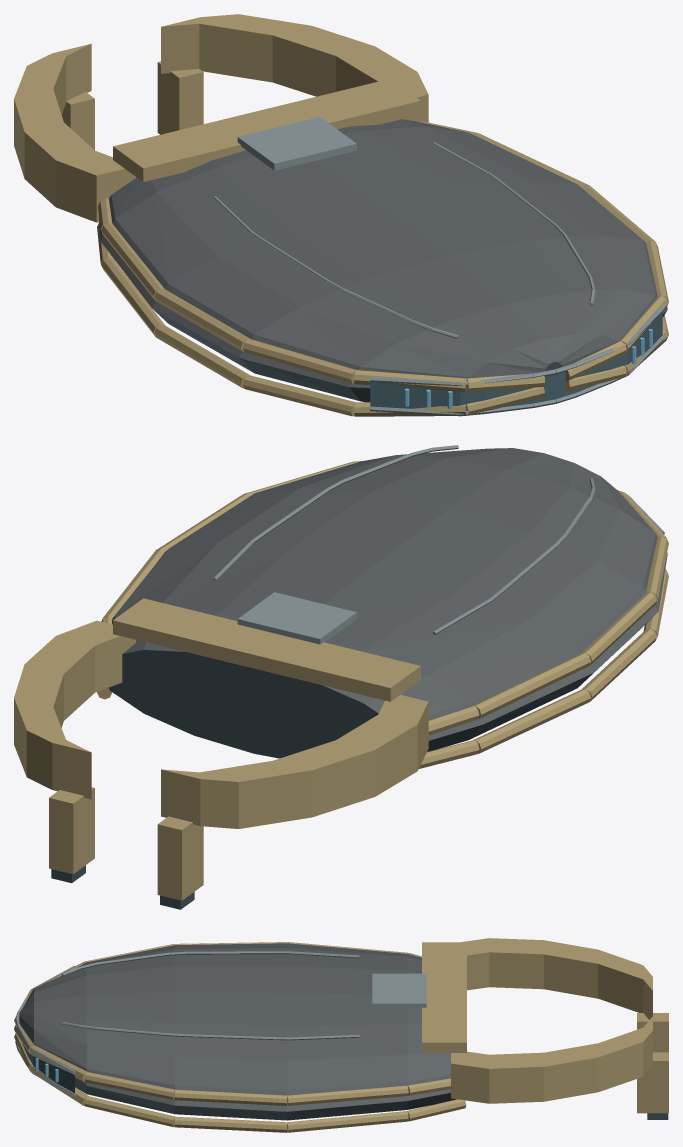
Rendered from rayfam_black_gold_off.glb.
The picture shows the model from 3 angles, top to bottom: view 1: azimuth 30°, elevation 25°; view 2: azimuth 150°, elevation 25°; view 3: azimuth 270°, elevation 25°; orthographic projection. The views are drawn at different scales.
Parts seen in each view (by area): view 1: material_0, material_2, material_3, material_4, material_1, material_5; view 2: material_0, material_2, material_1, material_3; view 3: material_0, material_2, material_3, material_1, material_4.
Part boxes in pixels (left/top/right/bottom): material_0: left=99, top=119, right=667, bottom=387; material_2: left=14, top=14, right=668, bottom=416; material_3: left=213, top=117, right=664, bottom=416; material_4: left=370, top=311, right=662, bottom=410; material_1: left=152, top=308, right=667, bottom=402; material_5: left=404, top=329, right=652, bottom=408; material_0: left=112, top=448, right=667, bottom=740; material_2: left=14, top=461, right=668, bottom=900; material_1: left=51, top=617, right=652, bottom=909; material_3: left=213, top=445, right=664, bottom=644; material_0: left=19, top=943, right=450, bottom=1111; material_2: left=14, top=938, right=668, bottom=1132; material_3: left=15, top=951, right=426, bottom=1096; material_1: left=75, top=1079, right=668, bottom=1120; material_4: left=21, top=1042, right=74, bottom=1093.
Size of the model in its own units: 17.71 by 5.57 by 30.64.
